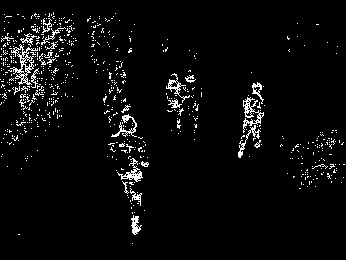person: (110, 114, 148, 235), (239, 81, 265, 160), (180, 68, 203, 139), (165, 72, 182, 132)
